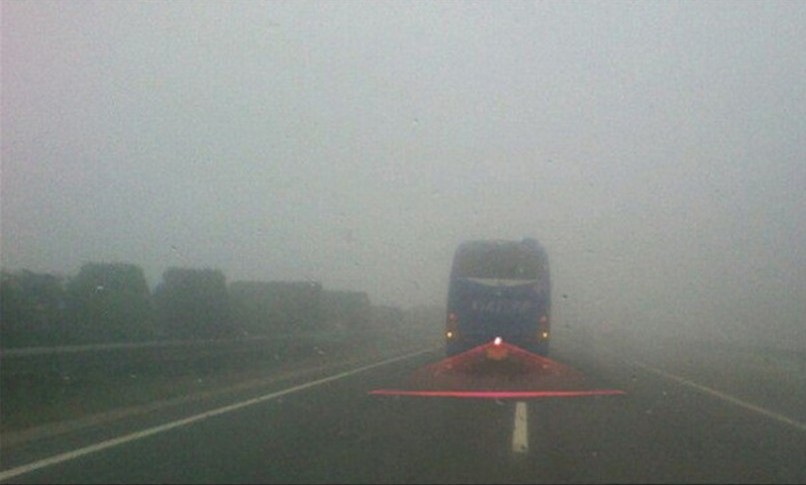bus: (443, 232, 552, 382)
